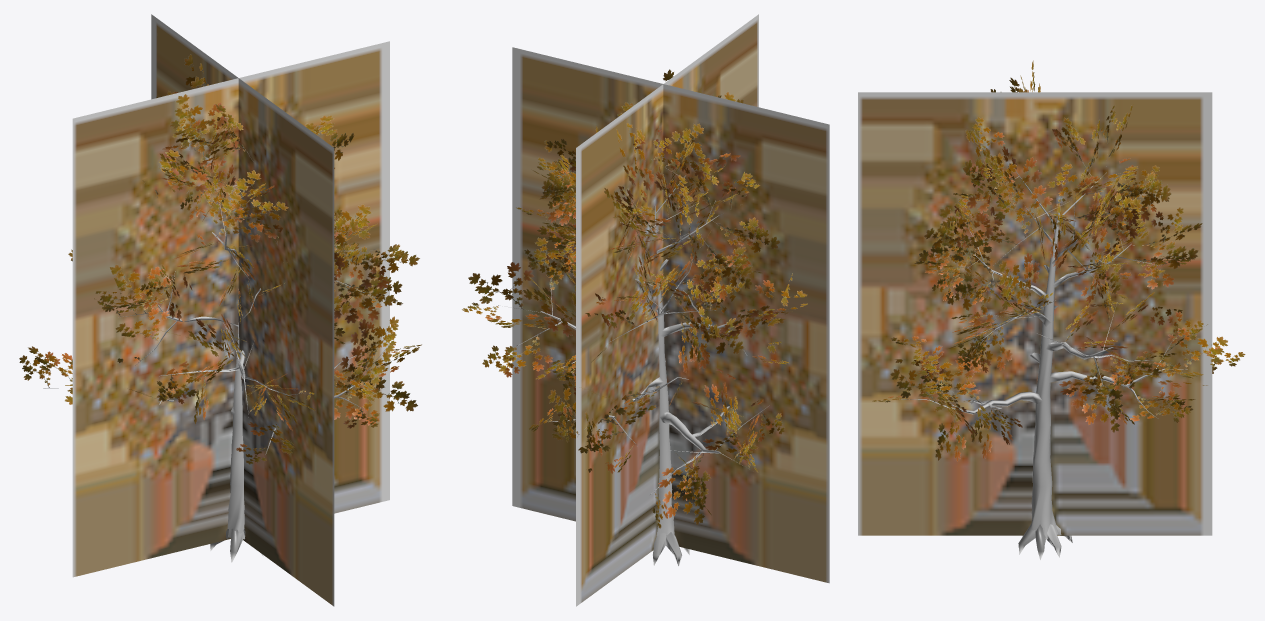
Rendered from Tree-Maple1C.fbx.
The picture shows the model from 3 angles, left to right: view 1: azimuth 30°, elevation 25°; view 2: azimuth 150°, elevation 25°; view 3: azimuth 270°, elevation 25°; orthographic projection. The views are drawn at different scales.
Visible parts, largest first — view 1: Billboard-MapleC, Tree-Maple1C_LOD0; view 2: Billboard-MapleC, Tree-Maple1C_LOD0; view 3: Billboard-MapleC, Tree-Maple1C_LOD0.
Boxes of the visible parts, left/top/right/bottom form: Billboard-MapleC: left=72, top=14, right=389, bottom=606; Tree-Maple1C_LOD0: left=19, top=54, right=421, bottom=562; Billboard-MapleC: left=512, top=14, right=829, bottom=606; Tree-Maple1C_LOD0: left=462, top=69, right=807, bottom=566; Billboard-MapleC: left=858, top=92, right=1212, bottom=535; Tree-Maple1C_LOD0: left=872, top=60, right=1245, bottom=559.
Size of what is drawn, in the model's own units: 1620 by 2279 by 1741.
